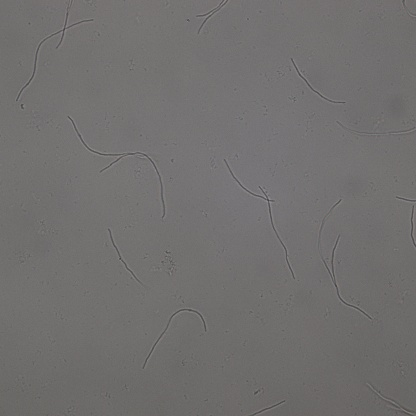Sensitive: (68, 117, 166, 217), (16, 10, 94, 102), (318, 198, 370, 319), (143, 307, 208, 368), (261, 187, 294, 277), (291, 58, 345, 105), (225, 159, 275, 203), (108, 230, 141, 287), (337, 121, 416, 141), (367, 385, 414, 416), (196, 1, 229, 34)
